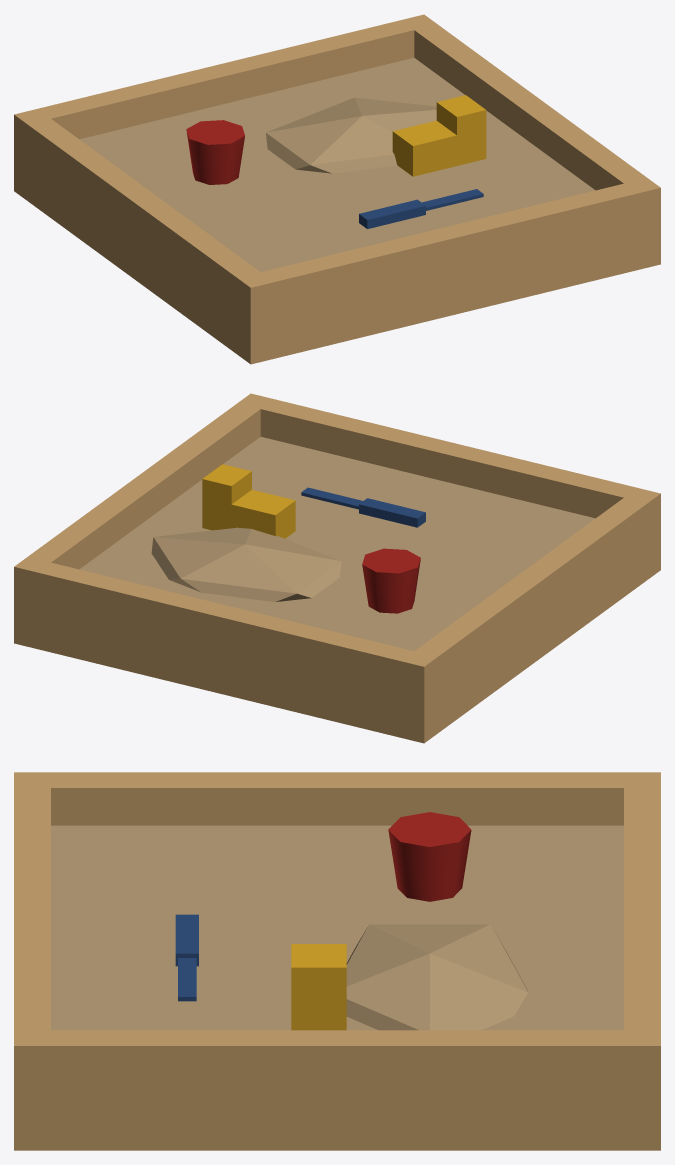
The model's file is sandbox.glb.
3 views of the same model, one above another, from view 1: azimuth 30°, elevation 25°; view 2: azimuth 150°, elevation 25°; view 3: azimuth 270°, elevation 25° (orthographic). The views are drawn at different scales.
Parts seen in each view (by area): view 1: sandbox; view 2: sandbox; view 3: sandbox.
Boxes of the visible parts, left/top/right/bottom form: sandbox: left=14, top=14, right=660, bottom=364; sandbox: left=14, top=393, right=660, bottom=743; sandbox: left=14, top=772, right=660, bottom=1150.
Size of the model in its own units: 1.4 by 0.32 by 1.4.
1 material, 1 textured.
